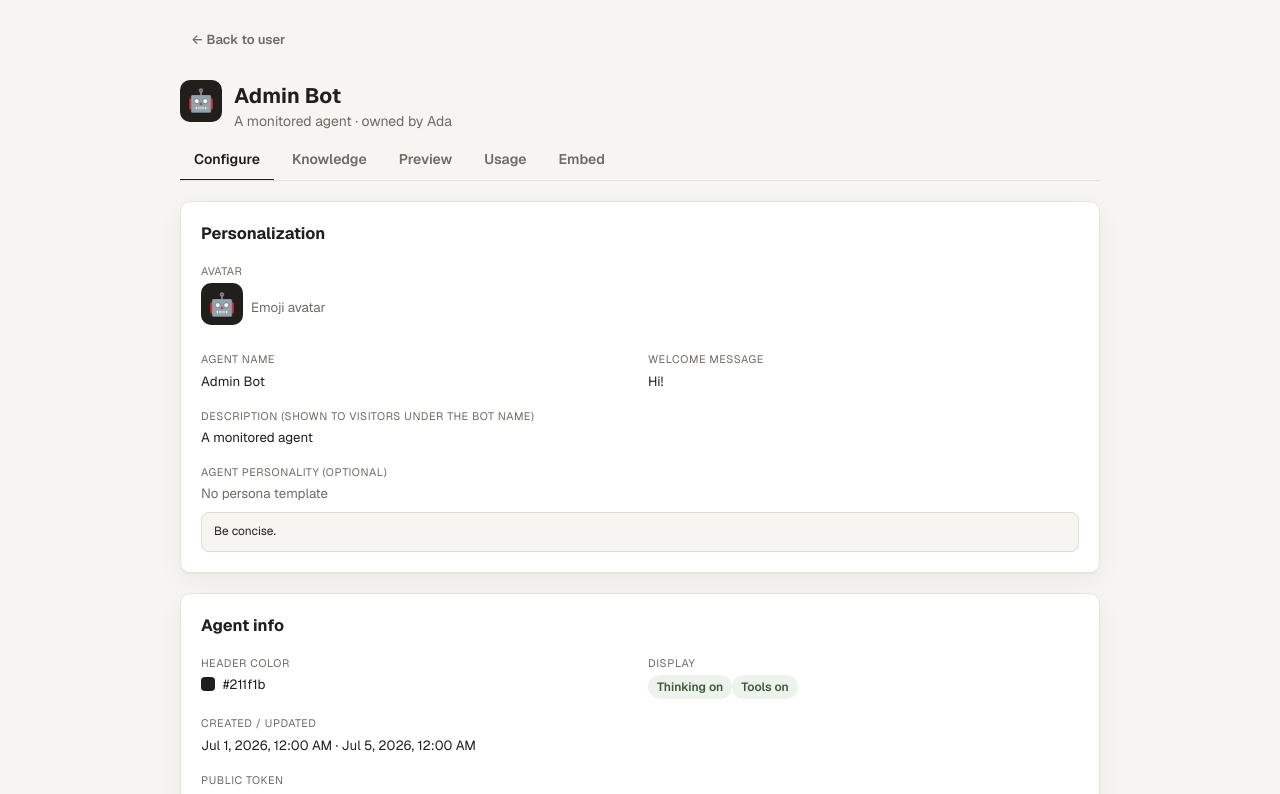
Scenario: AdminAgentDetailView › preview tab mounts the real widget with the agent token
What coordinates should you click on to do the following:
click the button with class "tab" showing "Preview"
I would click on:
 (425, 160)
Its box is [385,140,466,181].
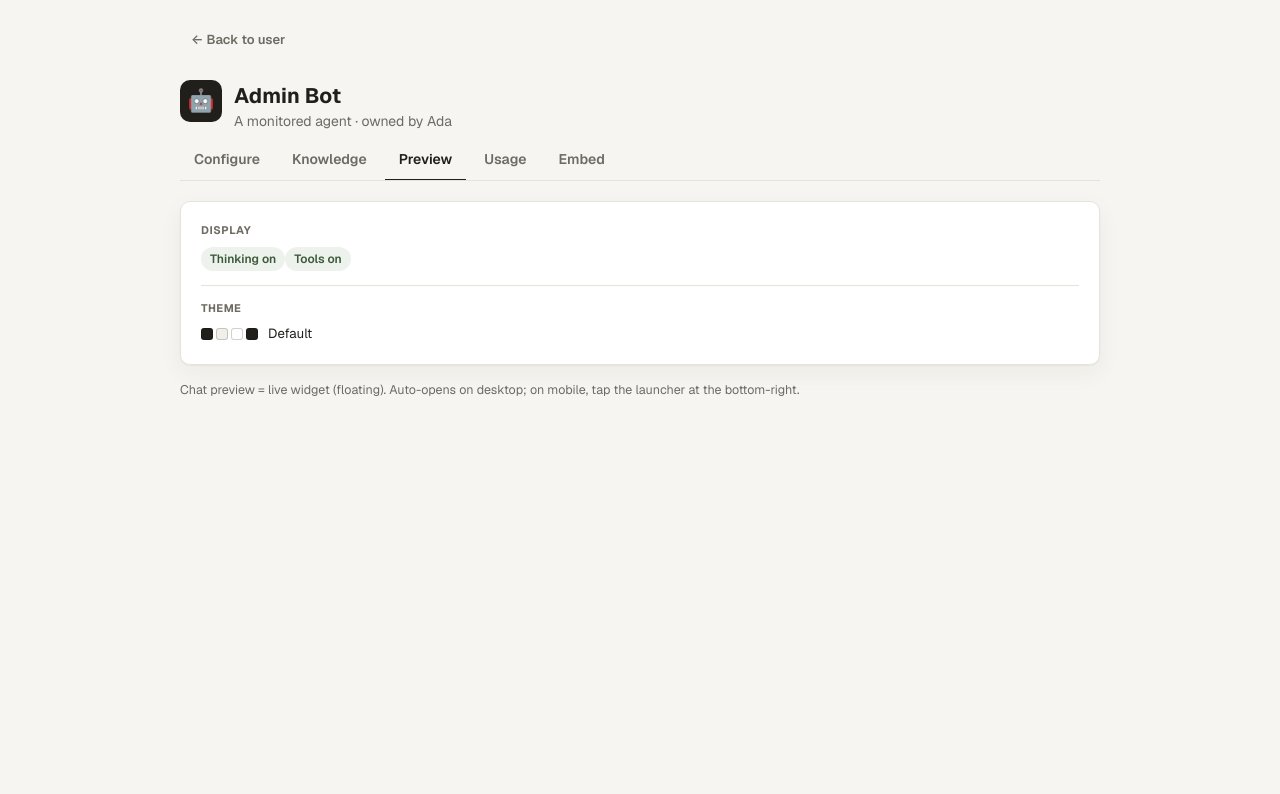
Expected: the text "Thinking on" is shown, [201,246,285,270]
Now the text "Default" is shown, box [268,324,312,344]
